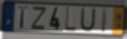4: (49, 6, 61, 32)
I: (100, 8, 108, 34)
L: (64, 7, 78, 33)
T: (17, 6, 30, 30)
U: (79, 7, 97, 34)
Z: (30, 6, 48, 31)
